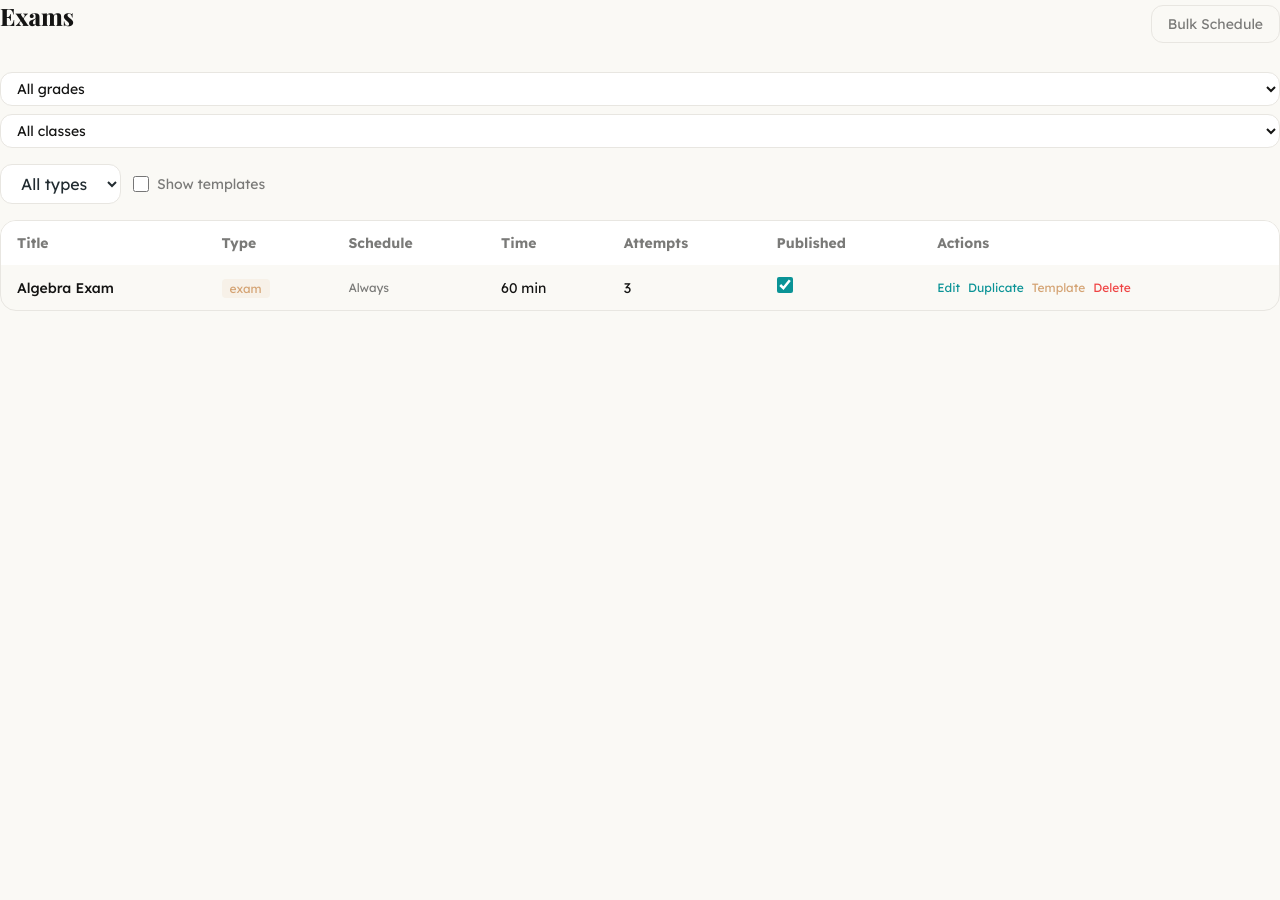
it: AdminExams › renders max attempts and cooldown fields in the edit modal
The image size is (1280, 900).
expect the text "Algebra Exam" is shown: met, box [1,265,206,310]
Click the button "Edit".
click(949, 288)  # box [937,280,960,296]
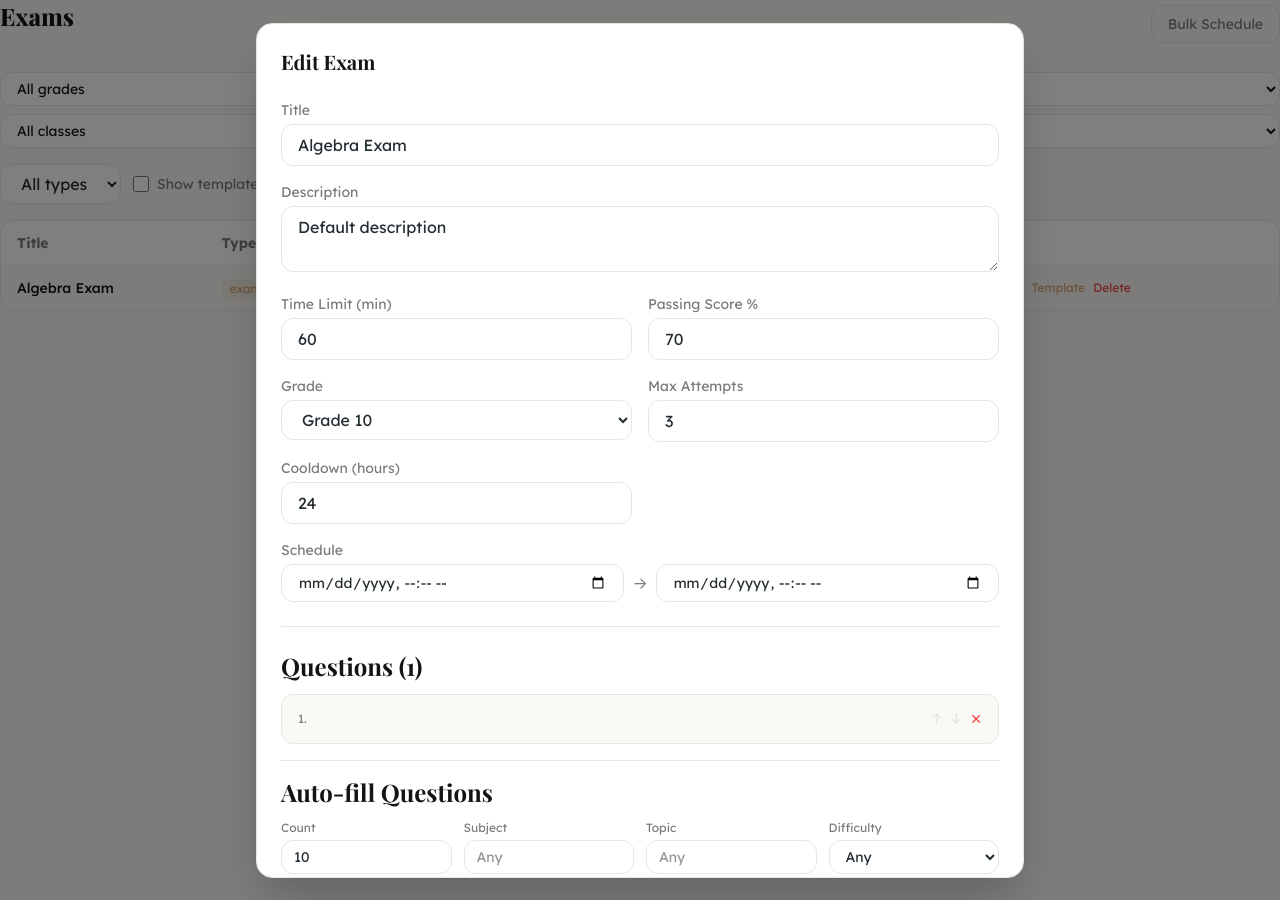
expect the text "Max Attempts" is shown: met, box [648,376,744,394]
expect the text "Cooldown (hours)" is shown: met, box [281,458,400,476]
expect the number field showing "3" below "Max Attempts" is shown: met, box [648,400,999,442]
